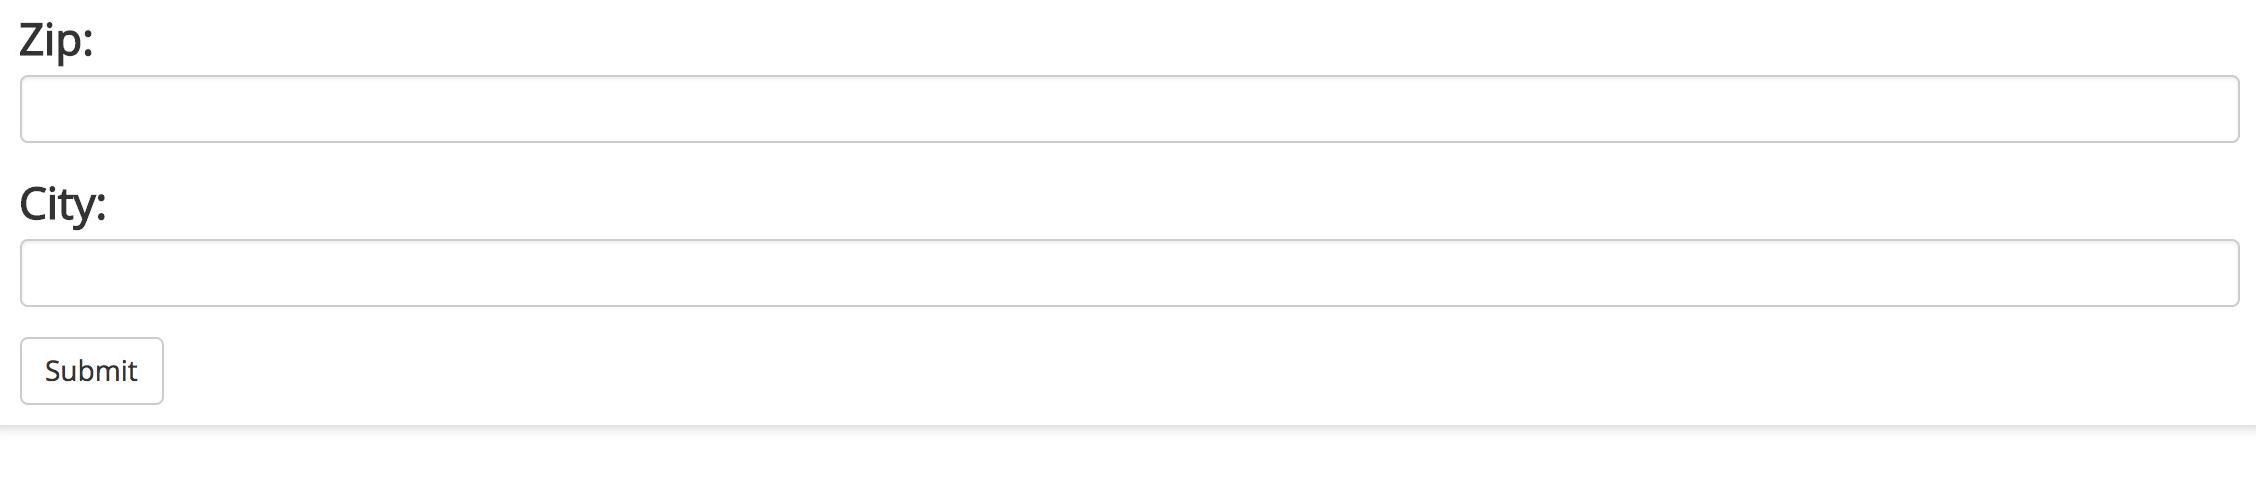button: (20, 335, 170, 406)
field: (14, 234, 2237, 311), (14, 70, 2237, 145)
field_with_label: (9, 184, 2247, 315), (9, 19, 2244, 148)
